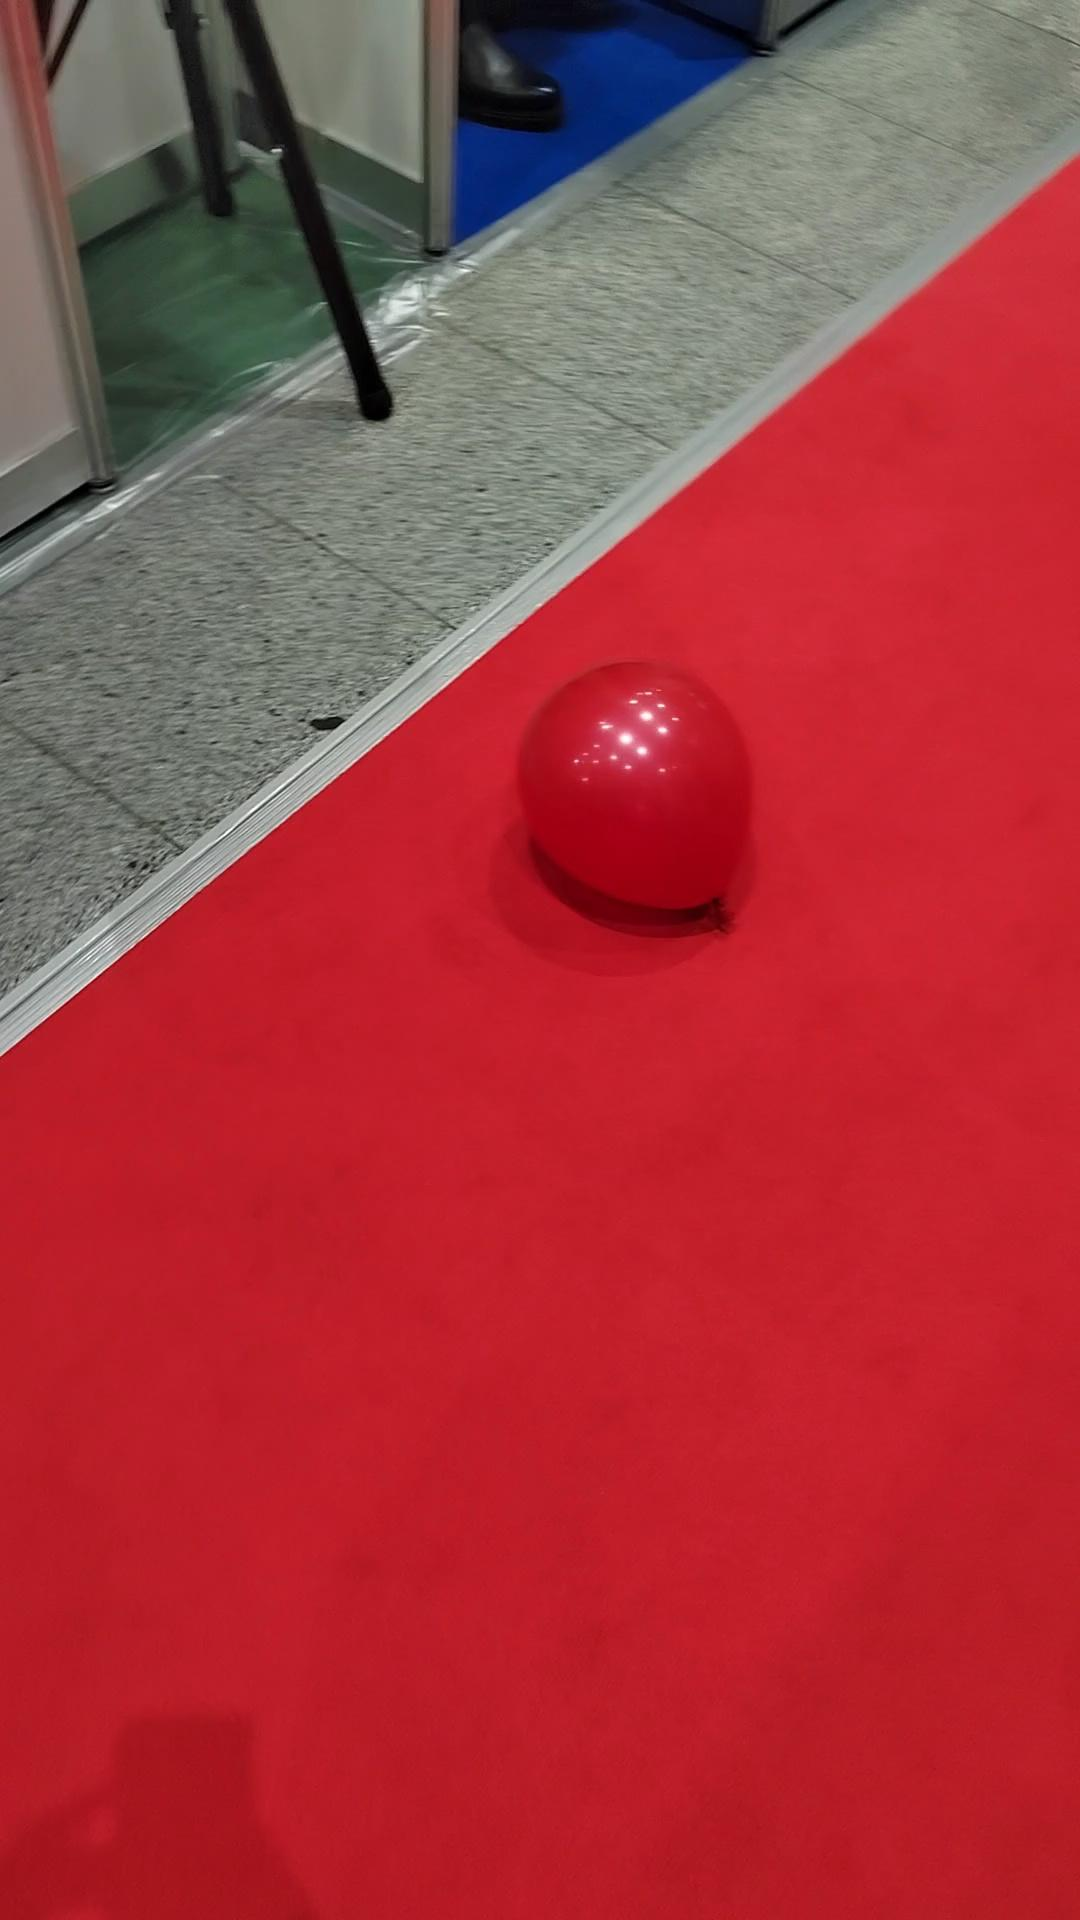red: (517, 657, 758, 915)
